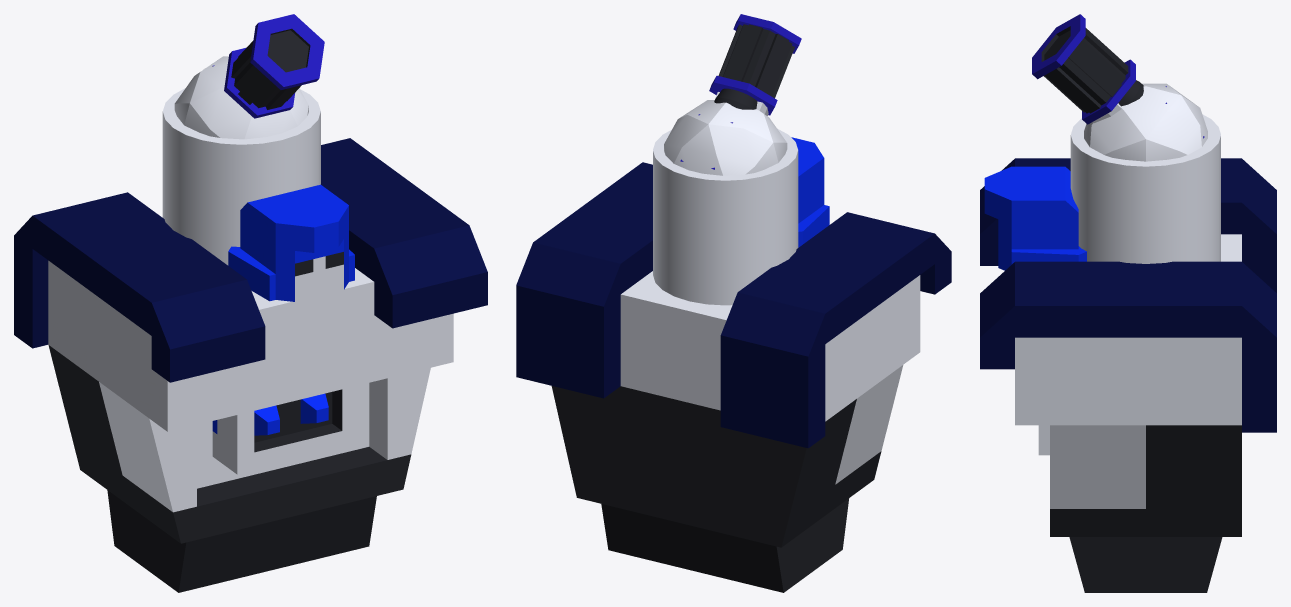
Rendered from enemy_2.fbx.
The picture shows the model from 3 angles, left to right: view 1: azimuth 30°, elevation 25°; view 2: azimuth 150°, elevation 25°; view 3: azimuth 270°, elevation 25°; orthographic projection. The views are drawn at different scales.
Parts seen in each view (by area): view 1: chest_shoulders, pipe_large, head_classic, weapon_turret, clipBarrel_large, icosphere; view 2: chest_shoulders, pipe_large, icosphere, clipBarrel_large, head_classic, mediumBlaster_barrelLarge; view 3: chest_shoulders, pipe_large, head_classic, icosphere, clipBarrel_large, mediumBlaster_barrelLarge.
Part boxes in pixels (x1,y1,x2,y2): chest_shoulders: [14, 138, 487, 592]; pipe_large: [162, 88, 320, 265]; head_classic: [228, 184, 354, 301]; weapon_turret: [212, 385, 359, 474]; clipBarrel_large: [224, 14, 324, 118]; icosphere: [174, 56, 308, 139]; chest_shoulders: [516, 162, 951, 592]; pipe_large: [653, 128, 798, 305]; icosphere: [664, 100, 787, 175]; clipBarrel_large: [709, 14, 801, 115]; head_classic: [791, 137, 829, 247]; mediumBlaster_barrelLarge: [680, 88, 768, 169]; chest_shoulders: [980, 158, 1276, 592]; pipe_large: [1070, 114, 1220, 263]; head_classic: [984, 166, 1086, 270]; icosphere: [1084, 83, 1207, 161]; clipBarrel_large: [1032, 14, 1135, 124]; mediumBlaster_barrelLarge: [1092, 80, 1204, 138].
Size of the model in its own units: 13 by 21.62 by 11.05.
